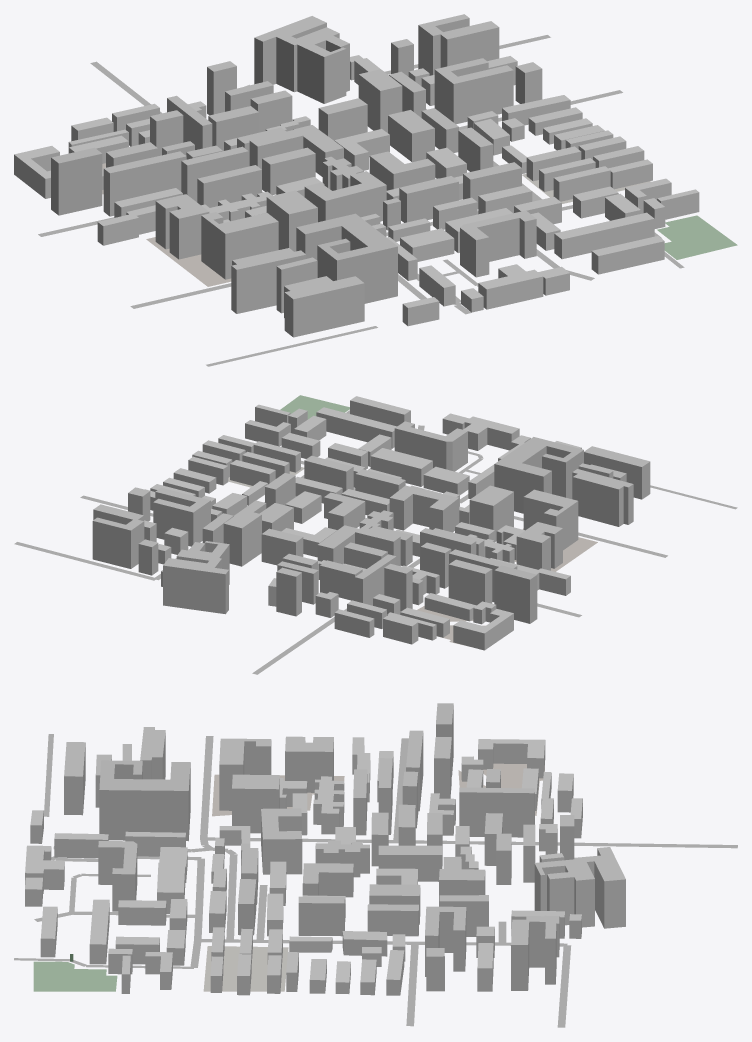
The picture shows the model from 3 angles, top to bottom: view 1: azimuth 30°, elevation 25°; view 2: azimuth 150°, elevation 25°; view 3: azimuth 270°, elevation 25°; orthographic projection. The views are drawn at different scales.
Bounding box in the file's own units: 639 × 54.01 × 667.
